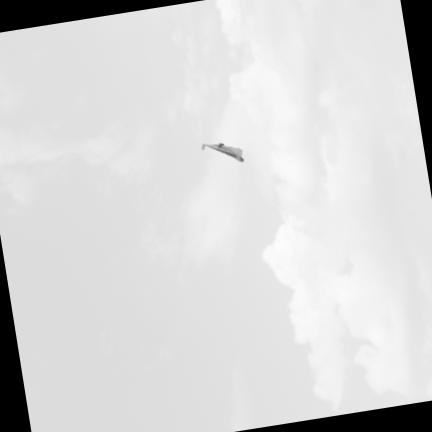Shahed: (203, 143, 243, 161)
